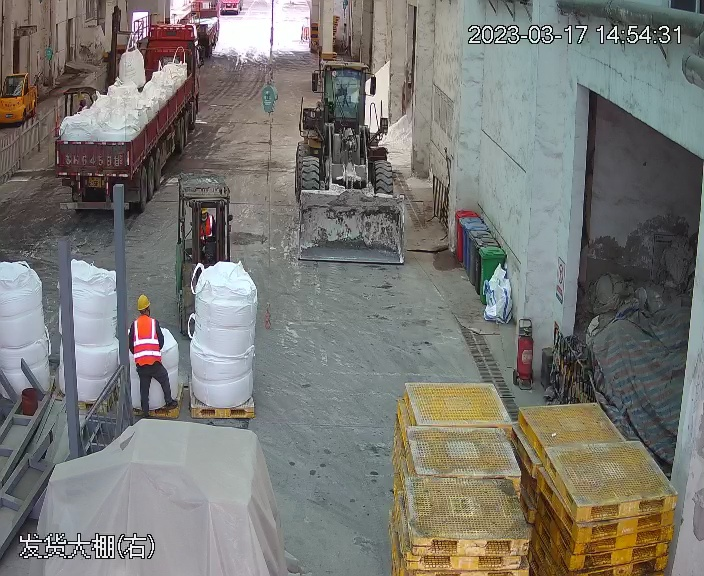head: (131, 293, 162, 332)
helmet: (136, 294, 151, 310)
people: (127, 292, 177, 415)
truck: (45, 5, 210, 212)
